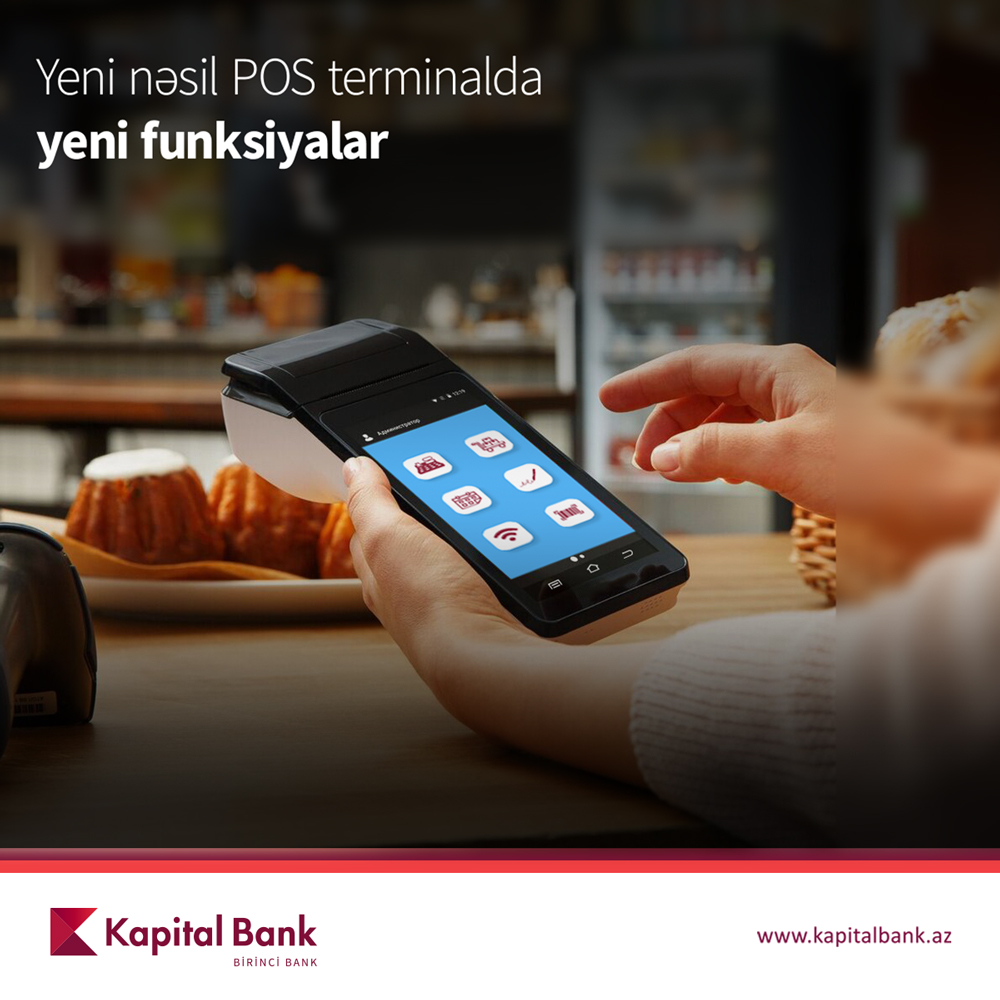Kapital Bank: (48, 905, 98, 957)
